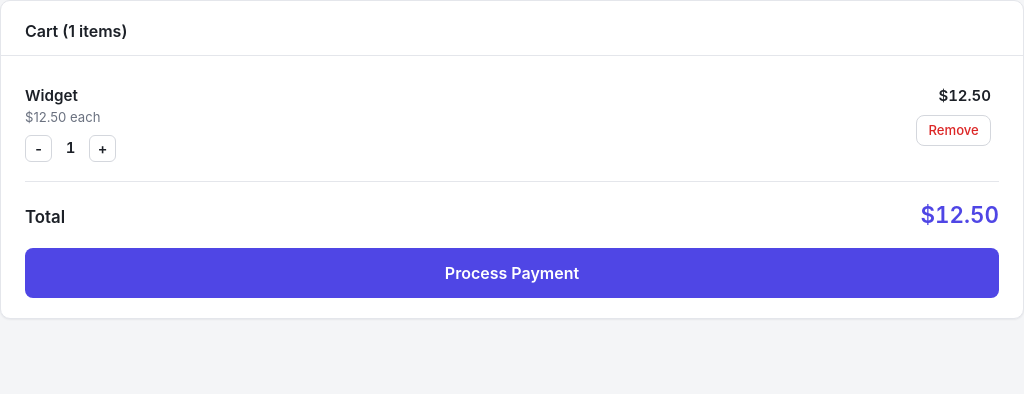
Test: Cart › shows the failure message when payment fails
This screenshot has width=1024, height=394.
Click the button "Process Payment" at (512, 273), box [25,248,999,298]
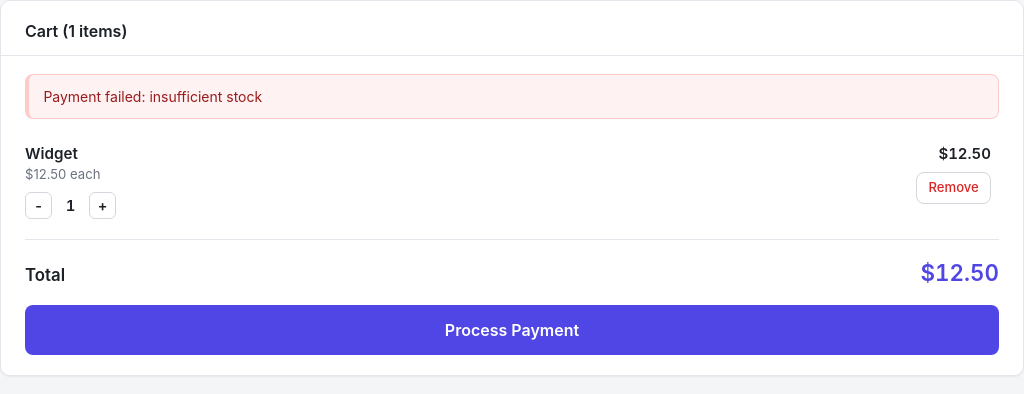
Result: the text "Payment failed: insufficient stock" is shown at [25,74,999,119]
